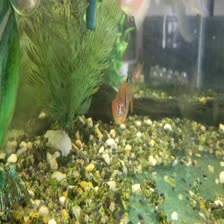Transparente: (107, 76, 137, 127)
